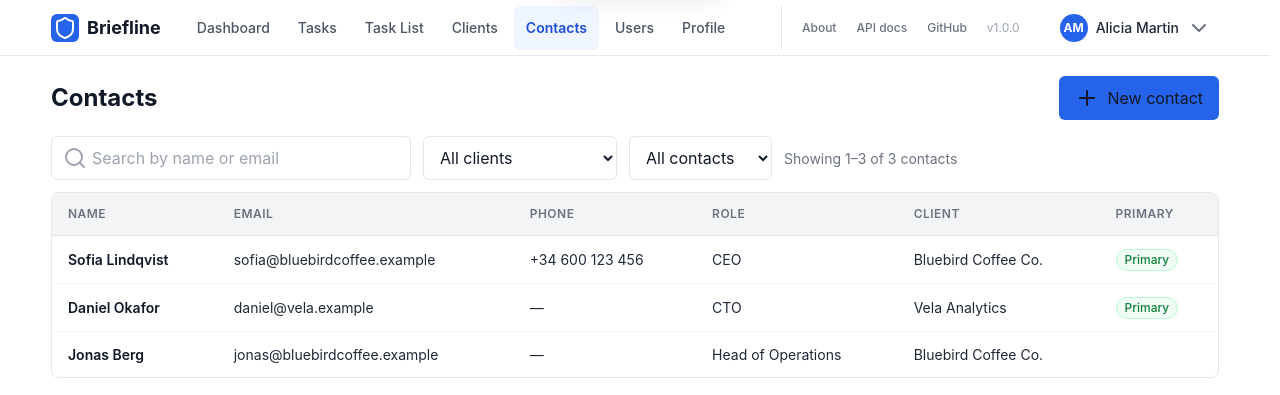
Test: Contact list › filters by primary status
The image size is (1280, 395).
Expected: the heading "Contacts" is shown, 51,83 -> 157,113
Expected: the table named "Contacts" is shown, 52,193 -> 1218,377
Select "Primary only" in the dropdown named "Primary filter" at (700, 158), box 629,136 -> 772,180
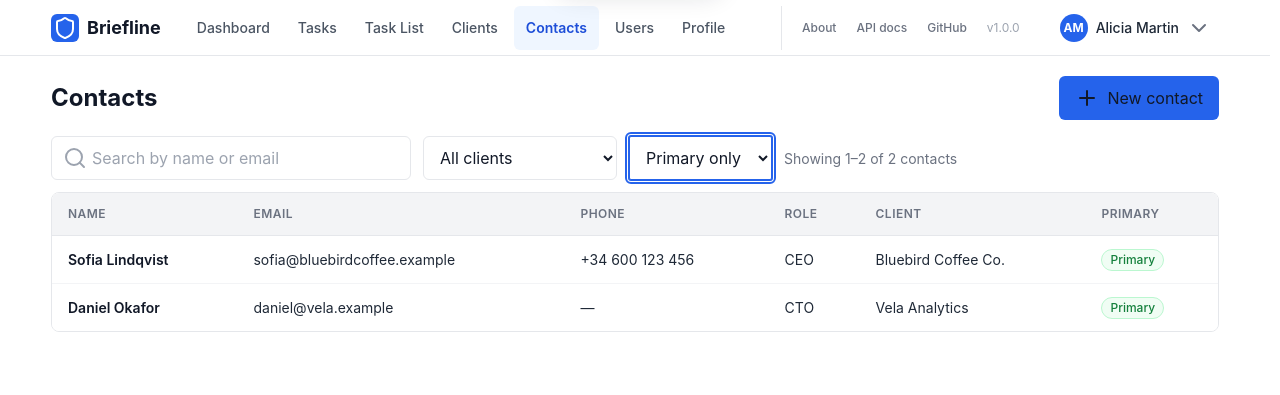
Expected: the link "Sofia Lindqvist" is shown, 68,251 -> 168,268
Result: the text "Showing 1–2 of 2 contacts" is shown at 784,148 -> 957,168
Result: the link "Jonas Berg" is gone
